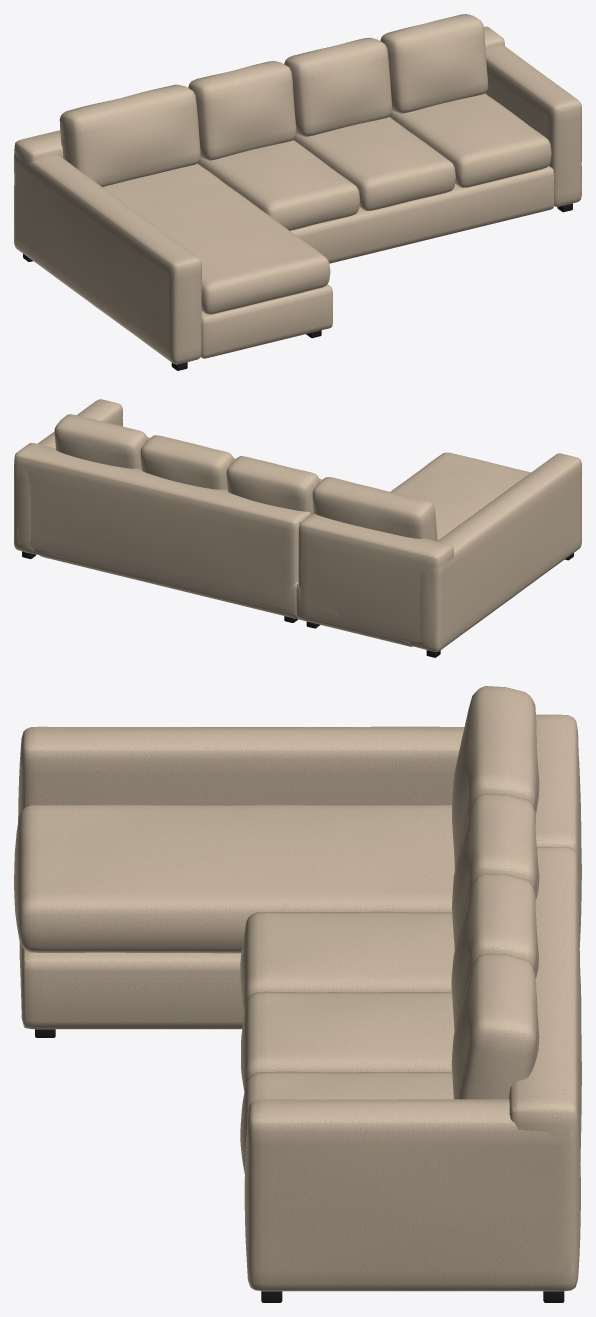
Rendered from sofa_chaise_izquierda_3p_boucle.glb.
3 renders of one model, top to bottom at view 1: azimuth 30°, elevation 25°; view 2: azimuth 150°, elevation 25°; view 3: azimuth 270°, elevation 25°, orthographic. The views are drawn at different scales.
Parts seen in each view (by area): view 1: sofa_chaise_izquierda_3p_boucle; view 2: sofa_chaise_izquierda_3p_boucle; view 3: sofa_chaise_izquierda_3p_boucle.
Boxes of the visible parts, x1,y1,x2,y2 form: sofa_chaise_izquierda_3p_boucle: (14,14,581,370); sofa_chaise_izquierda_3p_boucle: (14,399,581,657); sofa_chaise_izquierda_3p_boucle: (14,686,581,1302).
Bounding box in the file's own units: 2.71 × 0.8267 × 1.63.
Materials: 2 (1 with a texture image).
